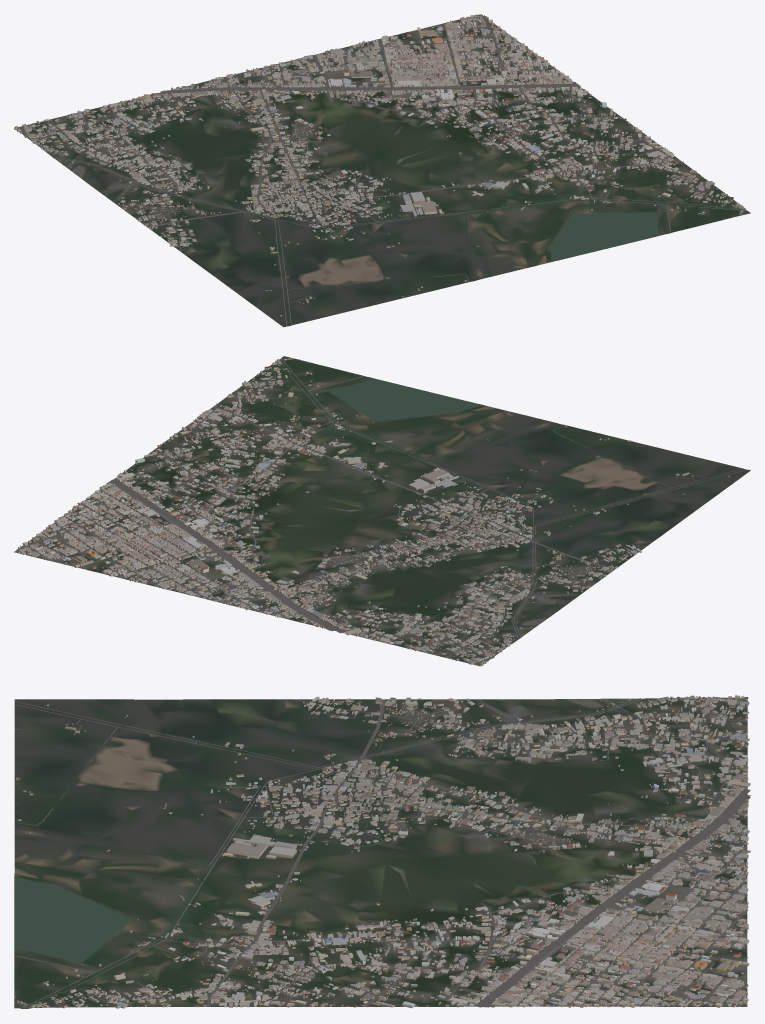
3 views of the same model, one above another, from view 1: azimuth 30°, elevation 25°; view 2: azimuth 150°, elevation 25°; view 3: azimuth 270°, elevation 25° (orthographic). The views are drawn at different scales.
Visible parts, largest first — view 1: ground, buildings, roads, water; view 2: ground, buildings, roads, water; view 3: ground, buildings, roads, water.
Boxes of the visible parts, bbox=[...] form: ground: bbox=[14, 14, 750, 327]; buildings: bbox=[14, 14, 744, 316]; roads: bbox=[19, 14, 747, 326]; water: bbox=[53, 157, 746, 280]; ground: bbox=[14, 356, 750, 666]; buildings: bbox=[16, 358, 729, 666]; roads: bbox=[15, 358, 747, 665]; water: bbox=[280, 359, 559, 638]; ground: bbox=[14, 697, 747, 1008]; buildings: bbox=[14, 695, 750, 1008]; roads: bbox=[14, 696, 750, 1008]; water: bbox=[14, 698, 641, 1008].
Bounding box in the file's own units: 2827 × 31.92 × 2817.
